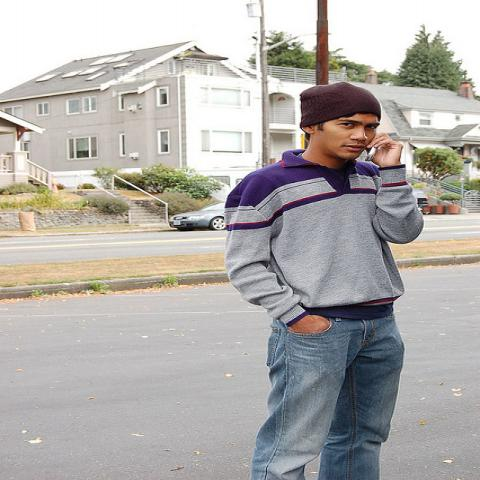car: (170, 198, 230, 231), (413, 188, 429, 210)
